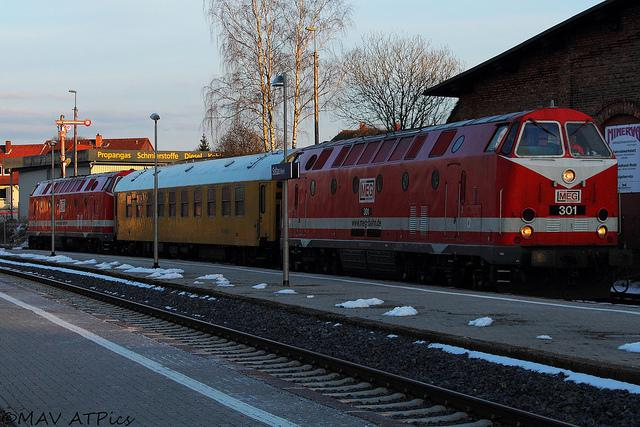Train: (27, 110, 628, 298)
